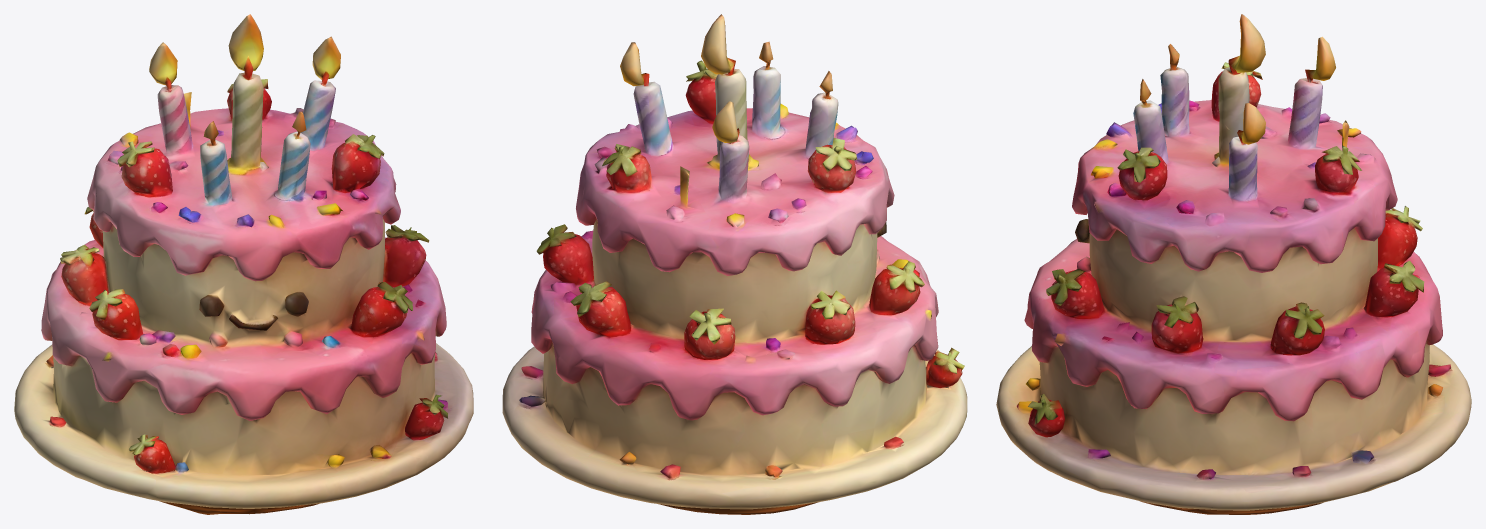
Rendered from birthday-cake.glb.
3 renders of one model, left to right at view 1: azimuth 30°, elevation 25°; view 2: azimuth 150°, elevation 25°; view 3: azimuth 270°, elevation 25°, orthographic. The views are drawn at different scales.
Visible parts, largest first — view 1: tripo_node_bd72e7ef-c4ab-4ddd-a4ab-21069e950d80; view 2: tripo_node_bd72e7ef-c4ab-4ddd-a4ab-21069e950d80; view 3: tripo_node_bd72e7ef-c4ab-4ddd-a4ab-21069e950d80.
Boxes of the visible parts, x1,y1,x2,y2 form: tripo_node_bd72e7ef-c4ab-4ddd-a4ab-21069e950d80: (14,14,473,514); tripo_node_bd72e7ef-c4ab-4ddd-a4ab-21069e950d80: (502,14,967,514); tripo_node_bd72e7ef-c4ab-4ddd-a4ab-21069e950d80: (996,14,1471,514).
Size of the model in its own units: 0.9536 by 1 by 0.9554.
Materials: 1 (1 with a texture image).
